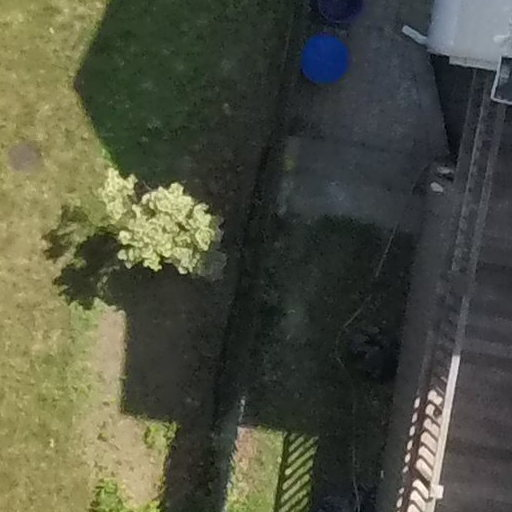garbage bin: (298, 26, 355, 93), (310, 1, 371, 25)
